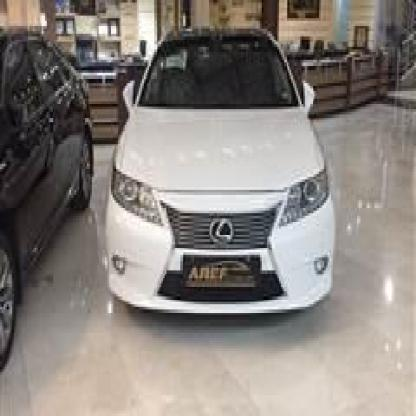Car: (106, 19, 338, 322), (0, 32, 85, 388)
